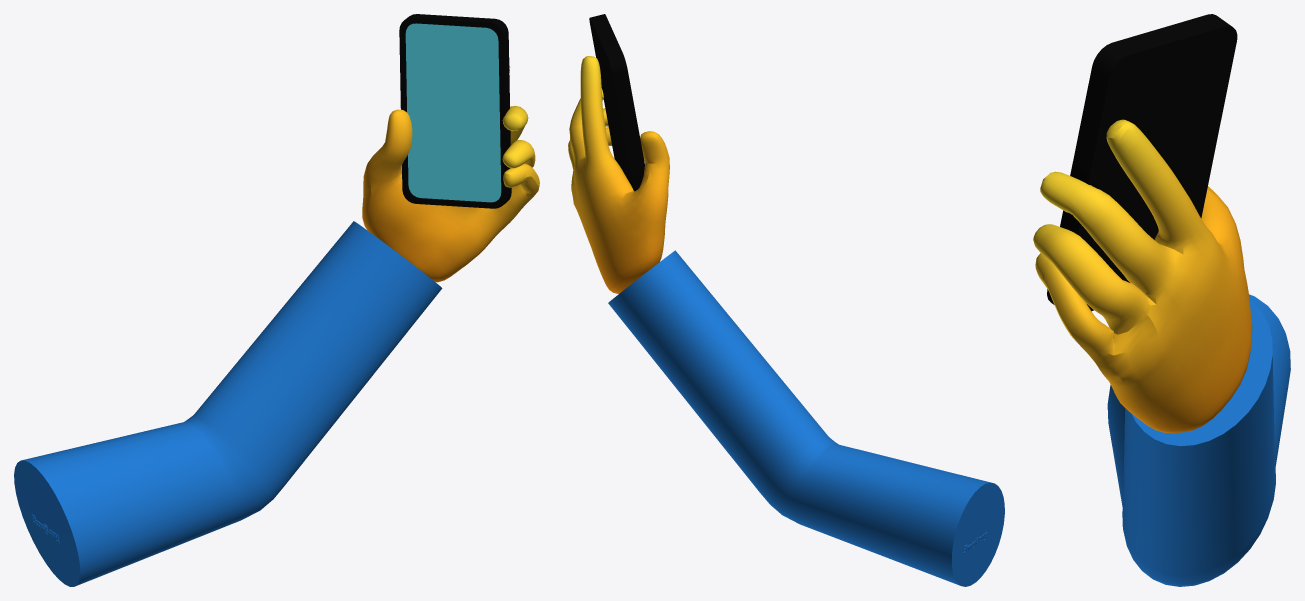
The model's file is selfie.fbx.
3 views of the same model, side by side, from view 1: azimuth 30°, elevation 25°; view 2: azimuth 150°, elevation 25°; view 3: azimuth 270°, elevation 25° (orthographic). The views are drawn at different scales.
Parts seen in each view (by area): view 1: Circle.271; view 2: Circle.271; view 3: Circle.271.
Boxes of the visible parts, x1=… form: Circle.271: x1=14, y1=14, x2=539, y2=586; Circle.271: x1=568, y1=14, x2=1004, y2=586; Circle.271: x1=1033, y1=14, x2=1290, y2=586.
Bounding box in the file's own units: 174 × 171 × 52.82.
2 materials, 2 textured.
